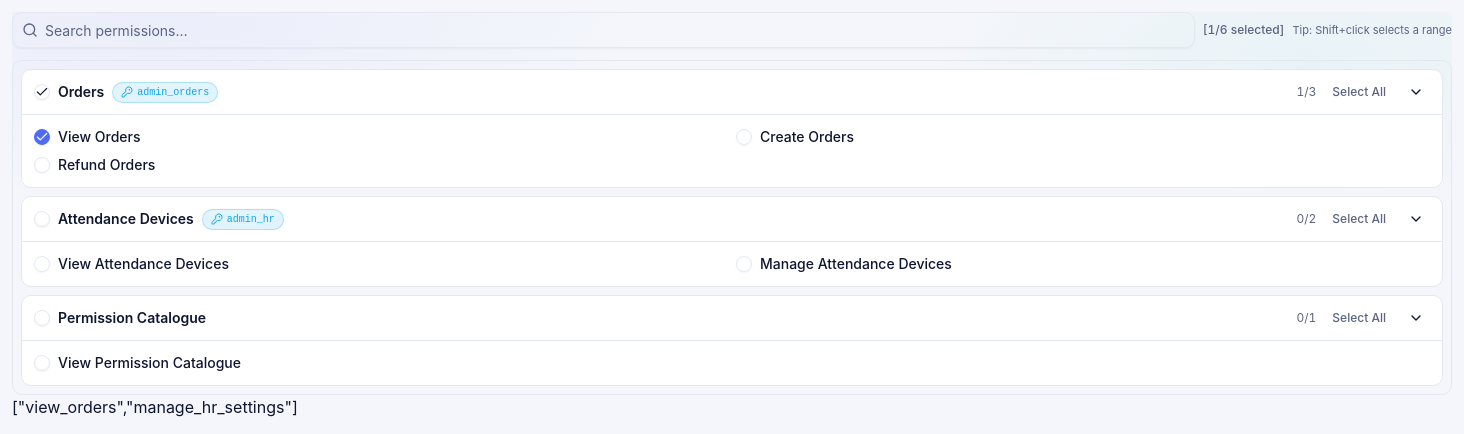
Test: PermissionCheckboxMatrix › counts the selection against the catalogue total
Expected: the text "[1/6 selected]" is shown, [1203,22,1284,38]
Step 1. Click the checkbox named "Refund Orders" next to "Refund Orders" → (42, 165), box [34,157,50,173]
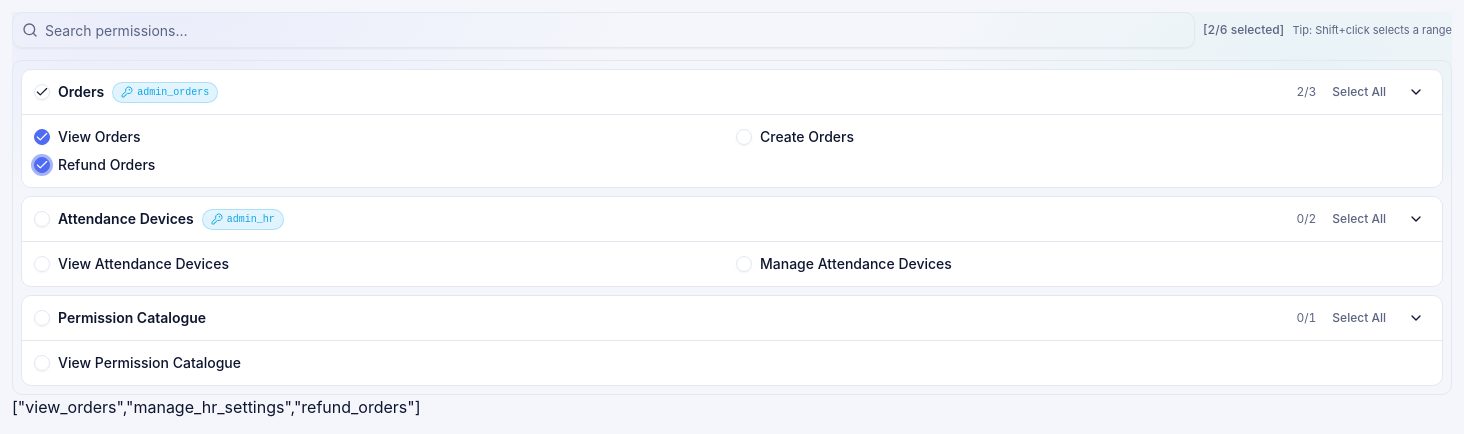
Expected: the text "[2/6 selected]" is shown, [1203,22,1284,38]
